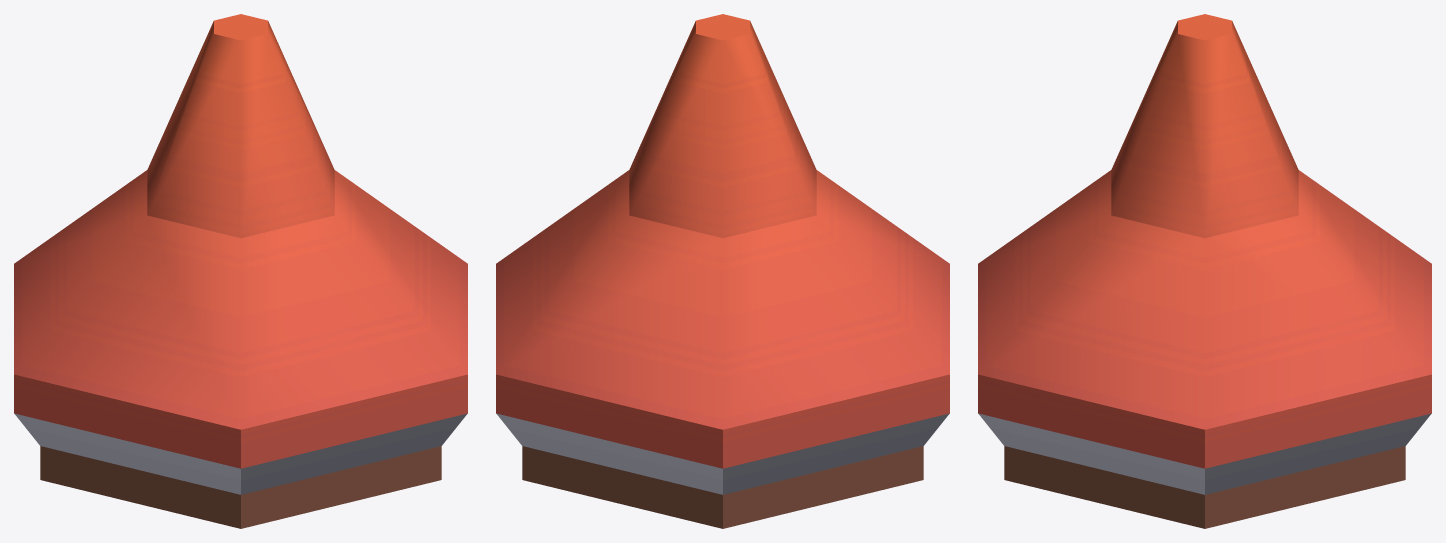
Rendered from tower-hexagon-roof.glb.
3 views of the same model, side by side, from view 1: azimuth 30°, elevation 25°; view 2: azimuth 150°, elevation 25°; view 3: azimuth 270°, elevation 25° (orthographic).
Visible parts, largest first — view 1: tower-hexagon-roof; view 2: tower-hexagon-roof; view 3: tower-hexagon-roof.
Part boxes in pixels (x1=…): tower-hexagon-roof: x1=14, y1=14, x2=467, y2=528; tower-hexagon-roof: x1=496, y1=14, x2=949, y2=528; tower-hexagon-roof: x1=978, y1=14, x2=1431, y2=528.
Bounding box in the file's own units: 2.93 × 2.49 × 2.54.
Materials: 1 (1 with a texture image).
